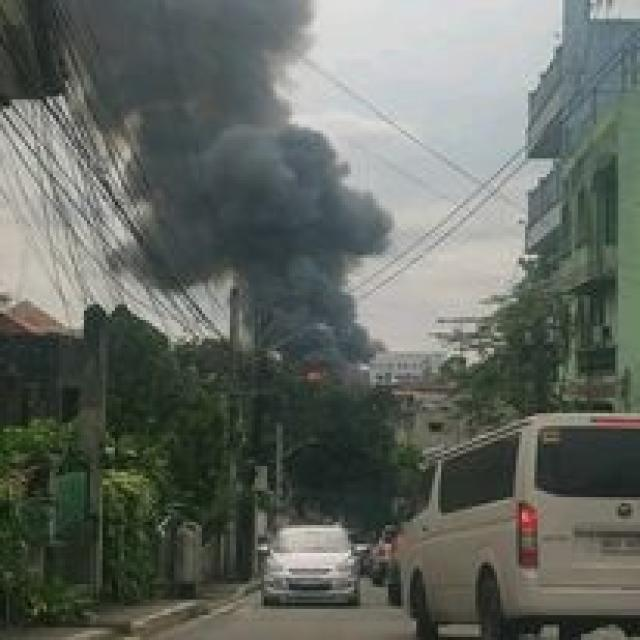Smoke: (96, 3, 337, 237), (229, 191, 373, 330)
